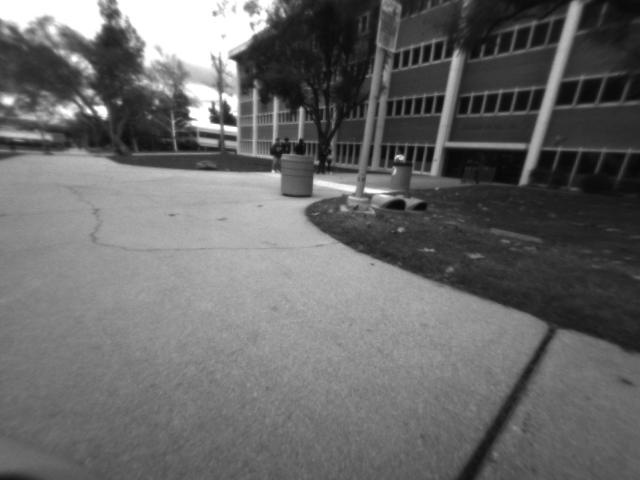trashcan: (274, 142, 319, 200), (385, 155, 414, 195)
